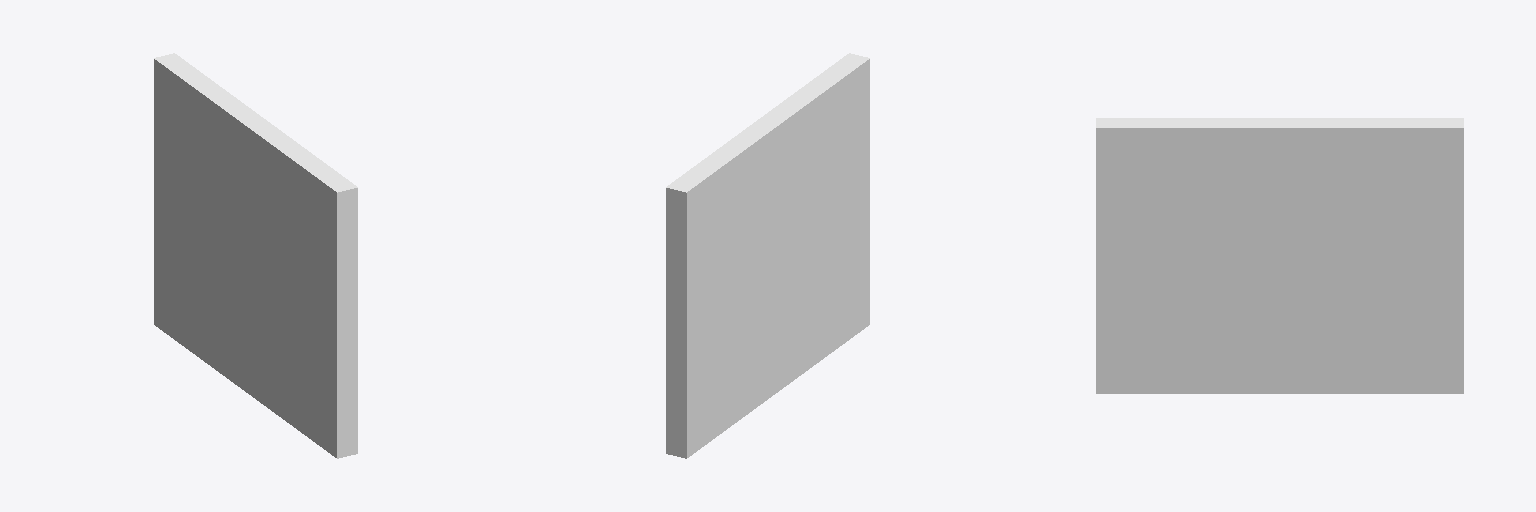
Rendered from Volt-3.obj.
The picture shows the model from 3 angles: view 1: azimuth 30°, elevation 25°; view 2: azimuth 150°, elevation 25°; view 3: azimuth 270°, elevation 25°; orthographic projection.
Parts seen in each view (by area): view 1: object 1; view 2: object 1; view 3: object 1.
Boxes of the visible parts, box(x1,y1,x2,y2) form: object 1: box(154, 53, 357, 458); object 1: box(666, 53, 869, 458); object 1: box(1096, 118, 1463, 393).
Size of the model in its own units: 0.1 by 1.2 by 1.5.